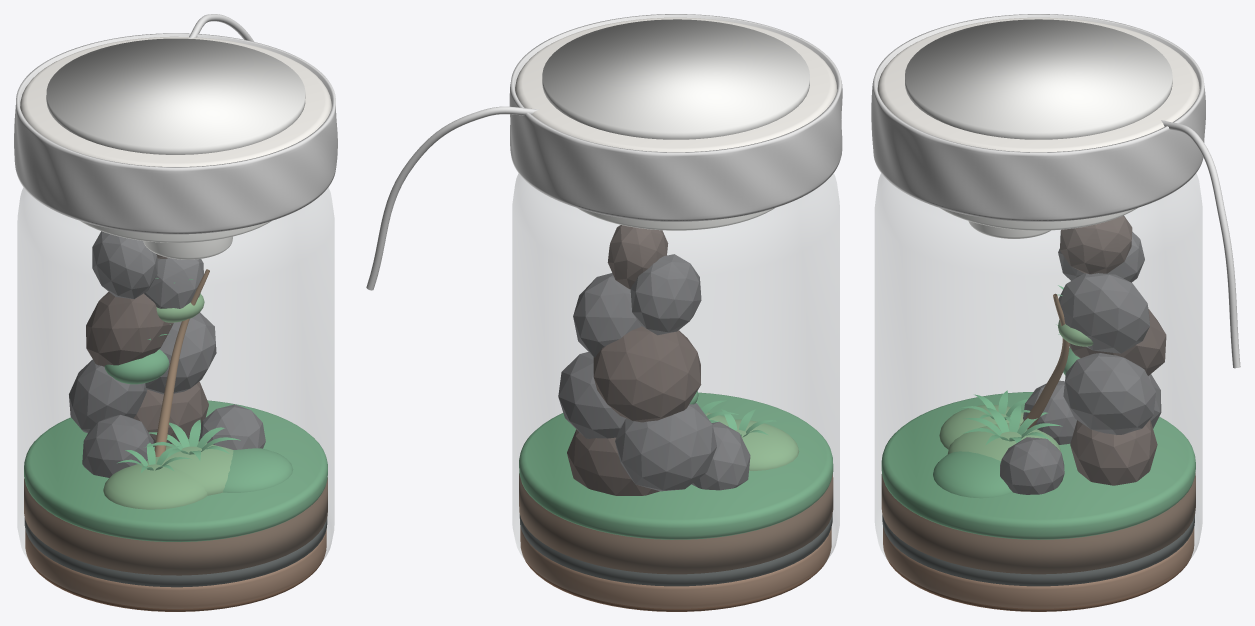
The model's file is terrarium-hero.glb.
The picture shows the model from 3 angles, left to right: view 1: azimuth 30°, elevation 25°; view 2: azimuth 150°, elevation 25°; view 3: azimuth 270°, elevation 25°; orthographic projection. The views are drawn at different scales.
Parts seen in each view (by area): view 1: Vessel_Circular_Glass, Hardware_Lid_TopPlate, Hardware_Lid_Ridge_Collar, Substrate_4_Moss, Substrate_3_Soil, Hardware_2_Circular_Lid, Substrate_1_LECA, Hardscape_LavaRock_4, Substrate_2_Charcoal, Botanical_MossCushion_1, Hardscape_LavaRock_2, Hardscape_LavaRock_6 (+13 smaller); view 2: Vessel_Circular_Glass, Hardware_Lid_TopPlate, Hardware_Lid_Ridge_Collar, Substrate_4_Moss, Substrate_3_Soil, Hardware_2_Circular_Lid, Substrate_1_LECA, Hardscape_LavaRock_4, Hardscape_LavaRock_2, Hardscape_LavaRock_6, Substrate_2_Charcoal, Hardscape_LavaRock_5 (+7 smaller); view 3: Vessel_Circular_Glass, Hardware_Lid_TopPlate, Hardware_Lid_Ridge_Collar, Substrate_4_Moss, Substrate_3_Soil, Hardware_2_Circular_Lid, Substrate_1_LECA, Hardscape_LavaRock_3, Hardscape_LavaRock_5, Hardscape_LavaRock_1, Substrate_2_Charcoal, Hardscape_LavaRock_7 (+11 smaller).
Part boxes in pixels (x1,y1,x2,y2): Vessel_Circular_Glass: [17, 188, 334, 608]; Hardware_Lid_TopPlate: [46, 38, 305, 154]; Hardware_Lid_Ridge_Collar: [14, 33, 337, 234]; Substrate_4_Moss: [24, 400, 327, 542]; Substrate_3_Soil: [24, 477, 327, 575]; Hardware_2_Circular_Lid: [20, 36, 331, 166]; Substrate_1_LECA: [25, 530, 326, 611]; Hardscape_LavaRock_4: [86, 291, 173, 366]; Substrate_2_Charcoal: [24, 518, 327, 587]; Botanical_MossCushion_1: [103, 461, 207, 509]; Hardscape_LavaRock_2: [69, 359, 146, 433]; Hardscape_LavaRock_6: [92, 231, 157, 298]; Vessel_Circular_Glass: [512, 173, 839, 607]; Hardware_Lid_TopPlate: [542, 19, 809, 139]; Hardware_Lid_Ridge_Collar: [509, 14, 842, 221]; Substrate_4_Moss: [519, 392, 833, 539]; Substrate_3_Soil: [519, 473, 833, 574]; Hardware_2_Circular_Lid: [515, 17, 837, 152]; Substrate_1_LECA: [520, 526, 831, 611]; Hardscape_LavaRock_4: [593, 326, 701, 422]; Hardscape_LavaRock_2: [615, 403, 716, 491]; Hardscape_LavaRock_6: [630, 254, 701, 335]; Substrate_2_Charcoal: [519, 514, 832, 586]; Hardscape_LavaRock_5: [573, 273, 641, 357]; Vessel_Circular_Glass: [875, 173, 1202, 607]; Hardware_Lid_TopPlate: [905, 19, 1172, 139]; Hardware_Lid_Ridge_Collar: [871, 14, 1205, 221]; Substrate_4_Moss: [881, 392, 1195, 539]; Substrate_3_Soil: [881, 473, 1195, 574]; Hardware_2_Circular_Lid: [877, 17, 1199, 152]; Substrate_1_LECA: [883, 527, 1194, 611]; Hardscape_LavaRock_3: [1063, 353, 1155, 434]; Hardscape_LavaRock_5: [1058, 273, 1149, 353]; Hardscape_LavaRock_1: [1070, 419, 1157, 485]; Substrate_2_Charcoal: [882, 515, 1194, 586]; Hardscape_LavaRock_7: [1060, 215, 1132, 274].
Size of the model in its own units: 3 by 3.84 by 2.7.
